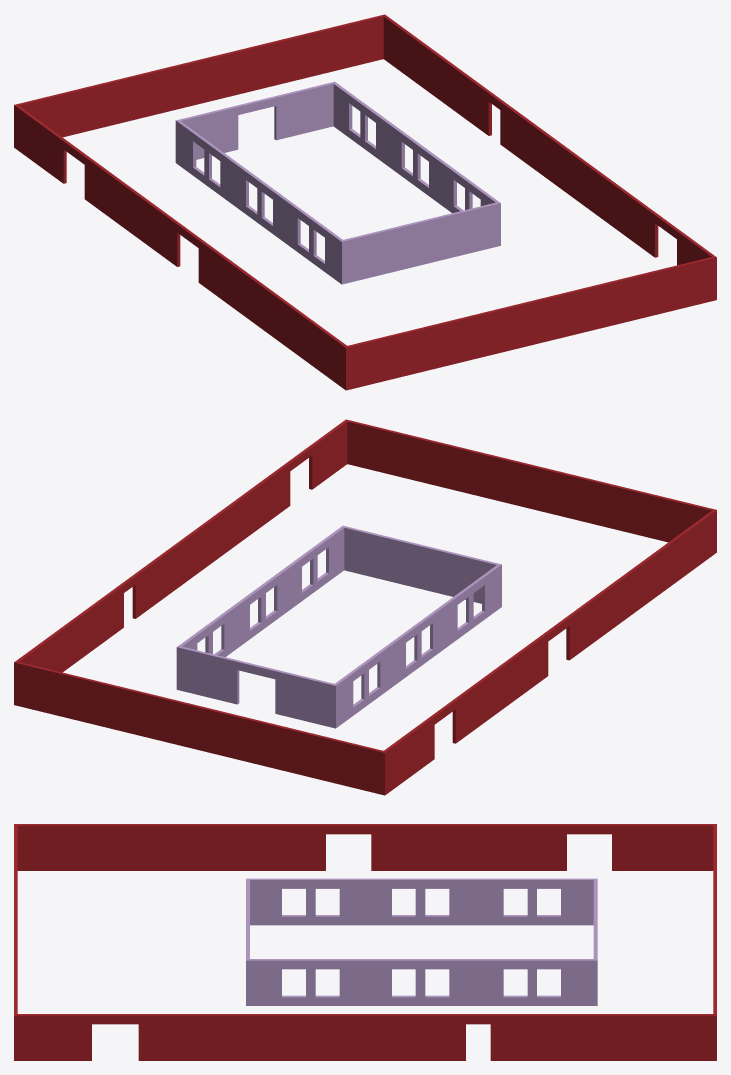
The model's file is insidewalls 1.fbx.
The picture shows the model from 3 angles, top to bottom: view 1: azimuth 30°, elevation 25°; view 2: azimuth 150°, elevation 25°; view 3: azimuth 270°, elevation 25°; orthographic projection. The views are drawn at different scales.
Parts seen in each view (by area): view 1: Hallways, Middle; view 2: Hallways, Middle; view 3: Hallways, Middle.
Boxes of the visible parts, x1=… form: Hallways: x1=14, y1=14, x2=716, y2=390; Middle: x1=175, y1=81, x2=500, y2=284; Hallways: x1=14, y1=419, x2=716, y2=795; Middle: x1=176, y1=525, x2=501, y2=728; Hallways: x1=14, y1=824, x2=716, y2=1060; Middle: x1=246, y1=878, x2=597, y2=1005.
Bounding box in the file's own units: 23670 × 2600 × 36690.
